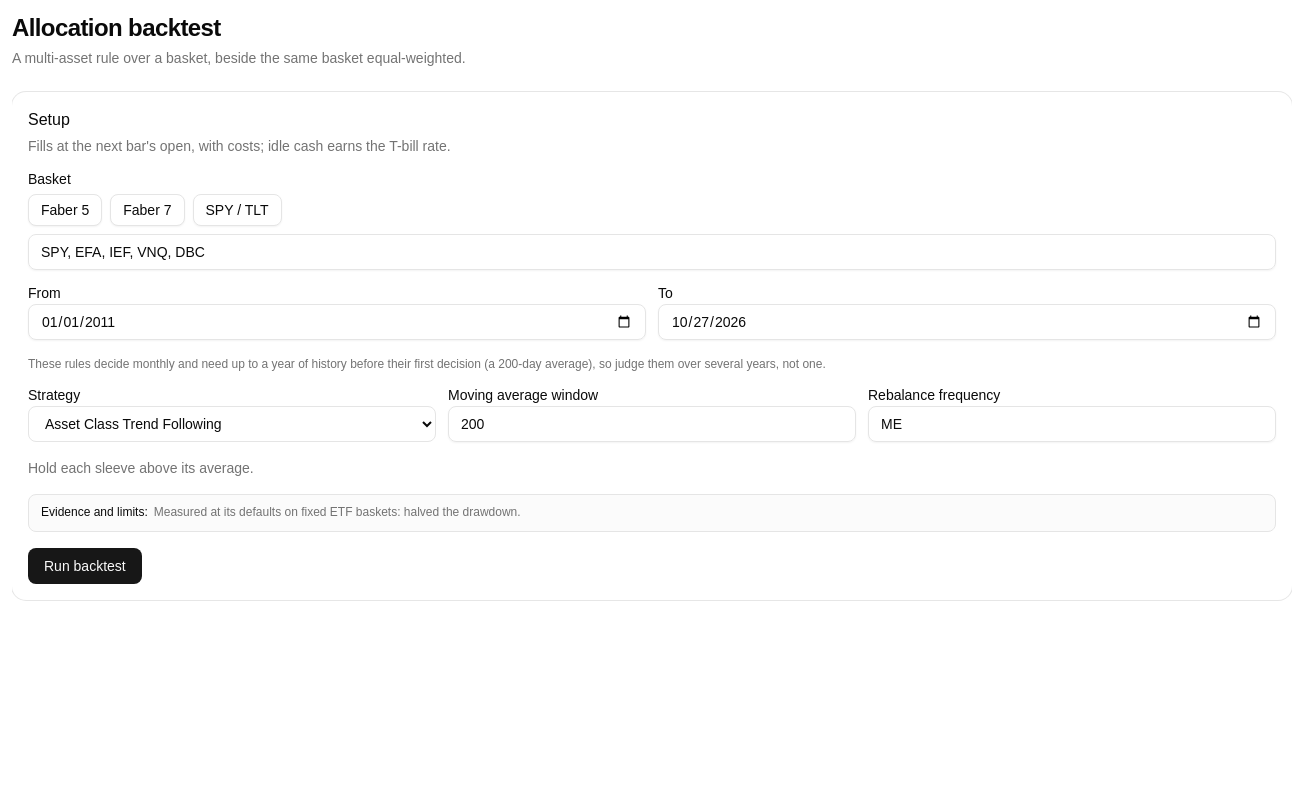
Test: AllocationPage — setup › picking another strategy starts from its own defaults
This screenshot has width=1292, height=812.
Expected: the number field labelled "Moving average window" is shown, [448,406,856,442]
Select "Momentum Asset Allocation" in the dropdown labelled "Strategy" at (232, 424), box [28,406,436,442]
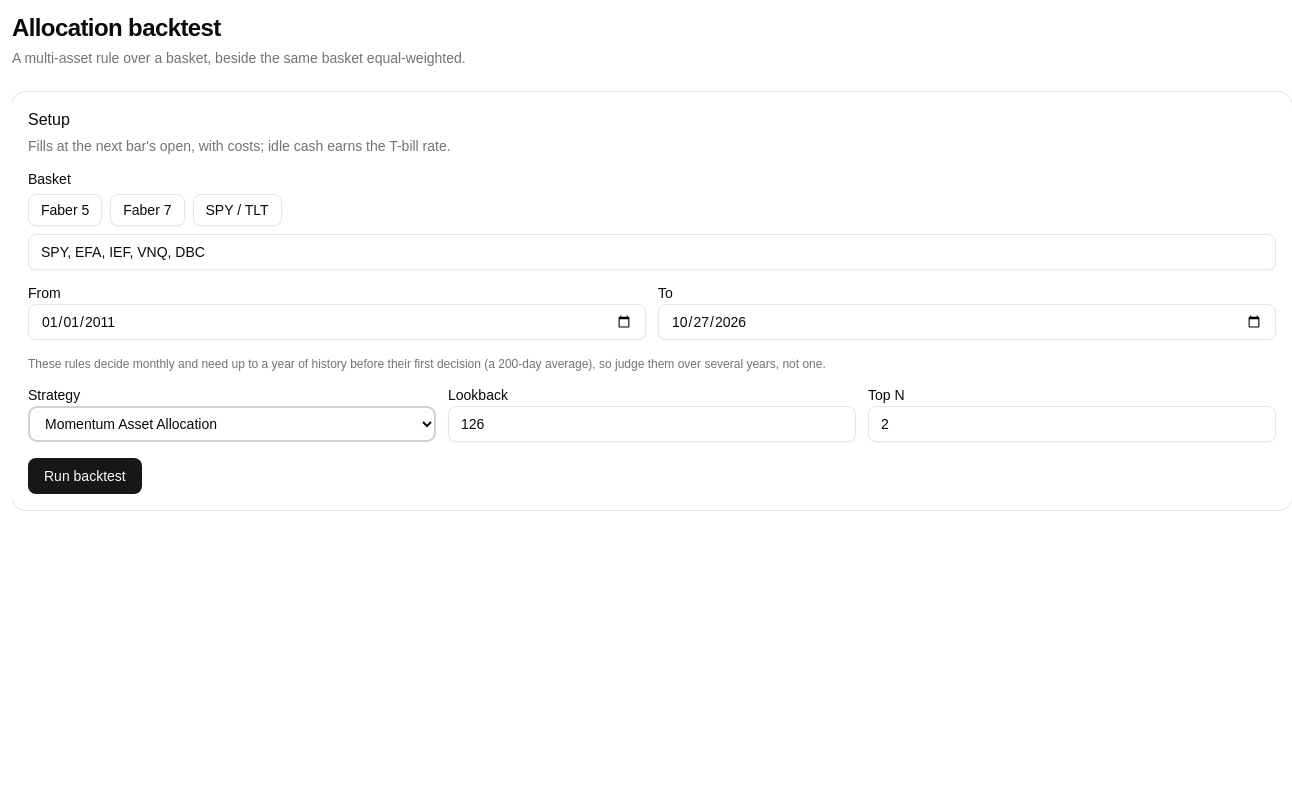
Expected: the number field labelled "Top N" holds "2", [868,406,1276,442]
Expected: the label labelled "Moving average window" is gone
